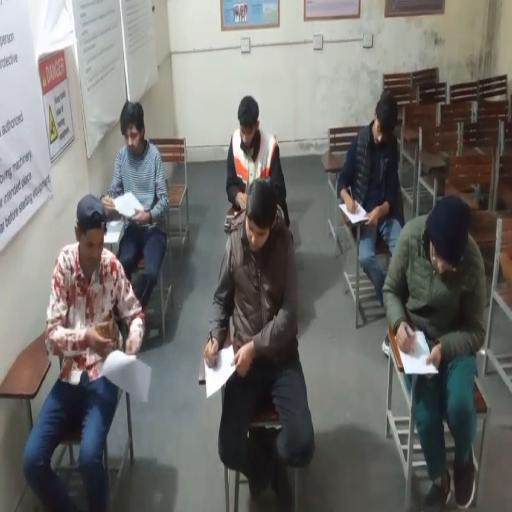paper: (100, 348, 151, 402), (204, 344, 237, 398), (399, 345, 439, 374), (108, 191, 143, 219), (339, 201, 369, 225), (104, 226, 122, 242)
